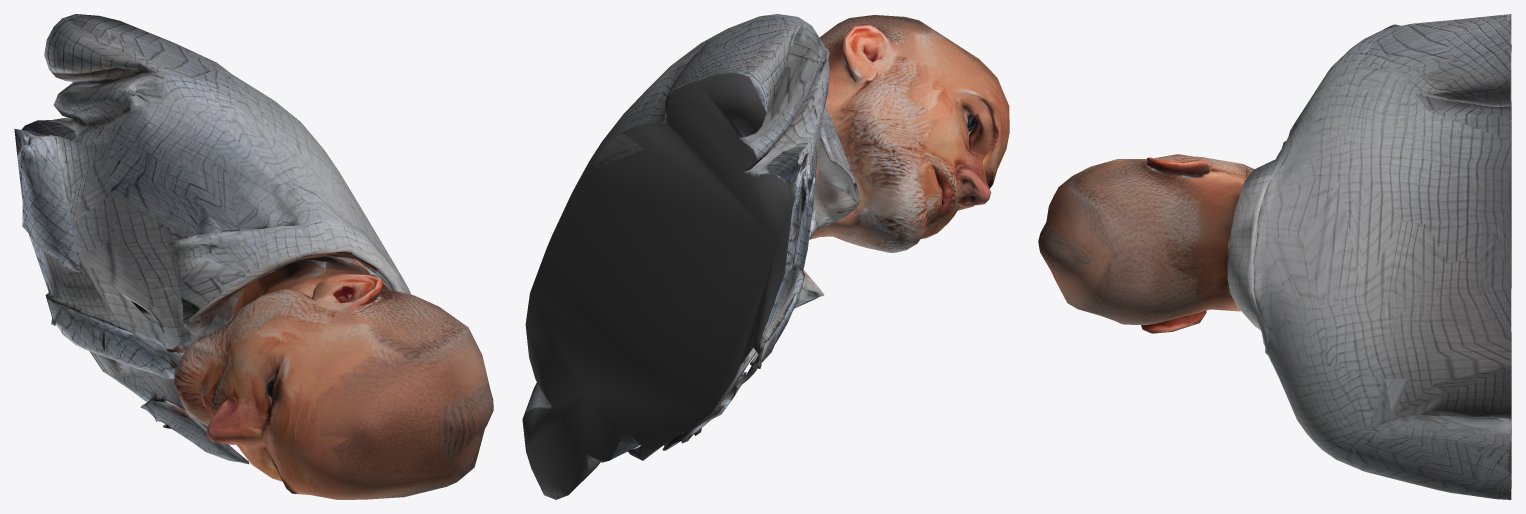
File: butler.obj
3 views of the same model, side by side, from view 1: azimuth 30°, elevation 25°; view 2: azimuth 150°, elevation 25°; view 3: azimuth 270°, elevation 25° (orthographic). The views are drawn at different scales.
Parts seen in each view (by area): view 1: Butler; view 2: Butler; view 3: Butler.
Boxes of the visible parts, left/top/right/bottom form: Butler: left=14, top=14, right=493, bottom=499; Butler: left=522, top=14, right=1009, bottom=499; Butler: left=1038, top=14, right=1511, bottom=499.
Bounding box in the file's own units: 0.6316 × 0.9392 × 1.
Materials: 1 (1 with a texture image).
